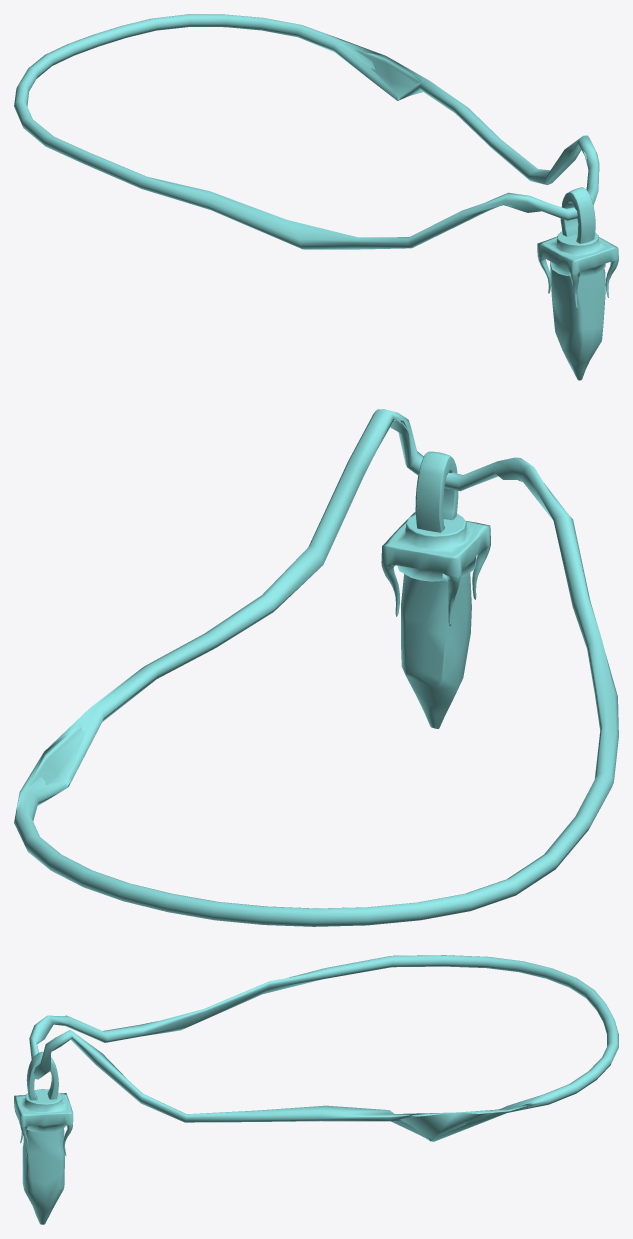
Rendered from SM_DUP_Pendant.fbx.
The picture shows the model from 3 angles, top to bottom: view 1: azimuth 30°, elevation 25°; view 2: azimuth 150°, elevation 25°; view 3: azimuth 270°, elevation 25°; orthographic projection. The views are drawn at different scales.
Visible parts, largest first — view 1: string1, pendant_frame_geo, pendant_gem_geo; view 2: string1, pendant_frame_geo, pendant_gem_geo; view 3: string1, pendant_gem_geo, pendant_frame_geo.
Boxes of the visible parts, bbox=[...] form: string1: bbox=[14, 14, 599, 249]; pendant_frame_geo: bbox=[537, 187, 618, 308]; pendant_gem_geo: bbox=[550, 261, 605, 380]; string1: bbox=[14, 409, 618, 926]; pendant_frame_geo: bbox=[381, 451, 490, 626]; pendant_gem_geo: bbox=[401, 573, 471, 728]; string1: bbox=[29, 955, 618, 1141]; pendant_gem_geo: bbox=[22, 1128, 64, 1224]; pendant_frame_geo: bbox=[14, 1051, 73, 1157].
Size of the model in its own units: 0.1172 by 0.0714 by 0.1927.
